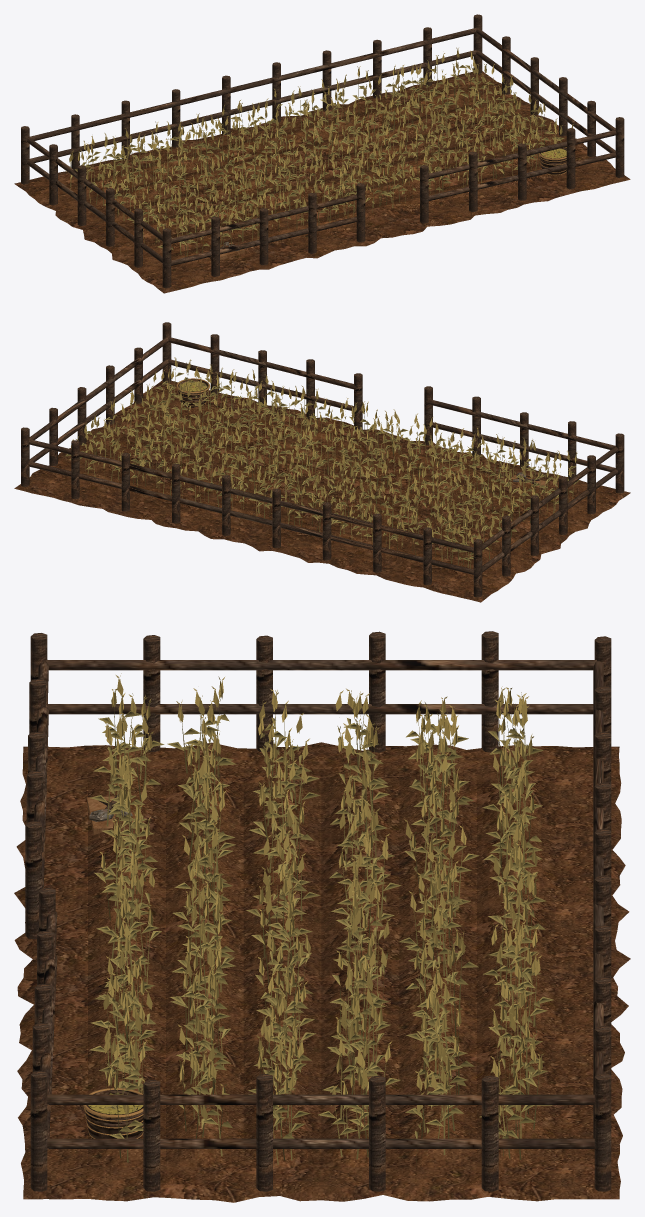
Rendered from field@1.glb.
3 renders of one model, top to bottom at view 1: azimuth 30°, elevation 25°; view 2: azimuth 150°, elevation 25°; view 3: azimuth 270°, elevation 25°, orthographic. The views are drawn at different scales.
Visible parts, largest first — view 1: part_7, part_8, part_4, part_9; view 2: part_7, part_8, part_4, part_9; view 3: part_7, part_8, part_4, part_9, part_0.
Boxes of the visible parts, <box> form: part_7: <box>28,73,615,284</box>; part_8: <box>66,47,573,256</box>; part_4: <box>21,14,624,288</box>; part_9: <box>14,71,630,293</box>; part_7: <box>29,383,615,593</box>; part_8: <box>65,357,579,568</box>; part_4: <box>21,322,624,597</box>; part_9: <box>14,380,630,602</box>; part_7: <box>43,747,594,1190</box>; part_8: <box>89,673,553,1164</box>; part_4: <box>25,631,611,1191</box>; part_9: <box>14,742,630,1202</box>; part_0: <box>85,1090,143,1138</box>.
Size of the model in its own units: 7.41 by 0.8923 by 4.2.
Materials: 10 (6 with a texture image).
